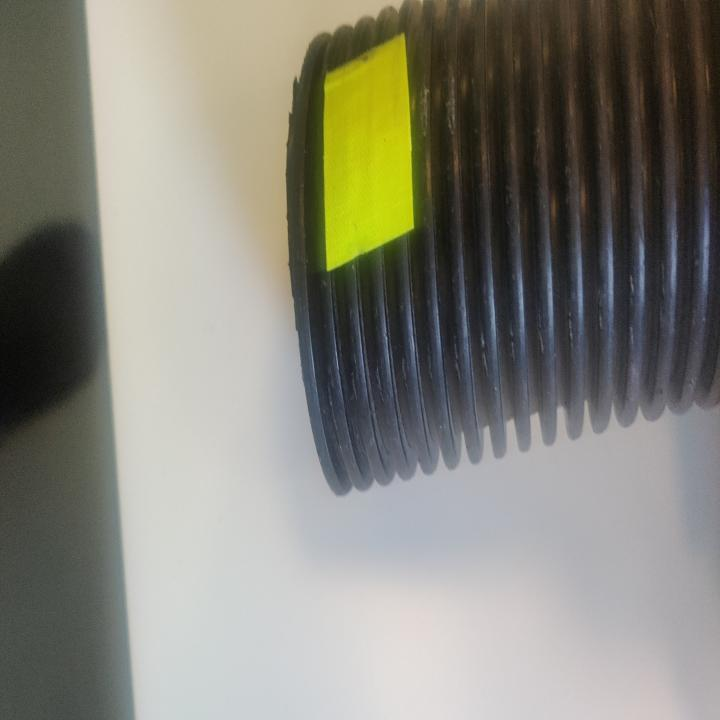robot-front: (292, 6, 719, 479)
